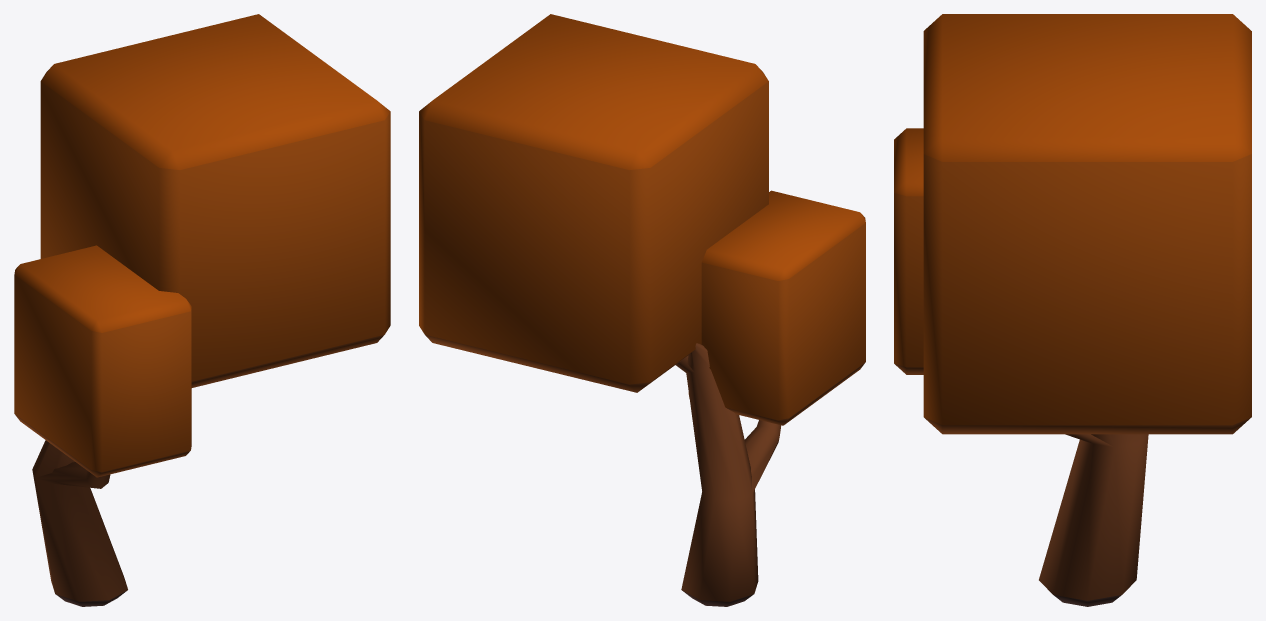
Rendered from tree-a2.glb.
3 views of the same model, side by side, from view 1: azimuth 30°, elevation 25°; view 2: azimuth 150°, elevation 25°; view 3: azimuth 270°, elevation 25° (orthographic). The views are drawn at different scales.
Visible parts, largest first — view 1: tree-19.col; view 2: tree-19.col; view 3: tree-19.col.
Part boxes in pixels (x1,y1,x2,y2): tree-19.col: (14, 14, 390, 606); tree-19.col: (419, 14, 865, 606); tree-19.col: (894, 14, 1251, 606).
Size of the model in its own units: 0.6686 by 0.9816 by 0.5373.
1 material, 1 textured.
